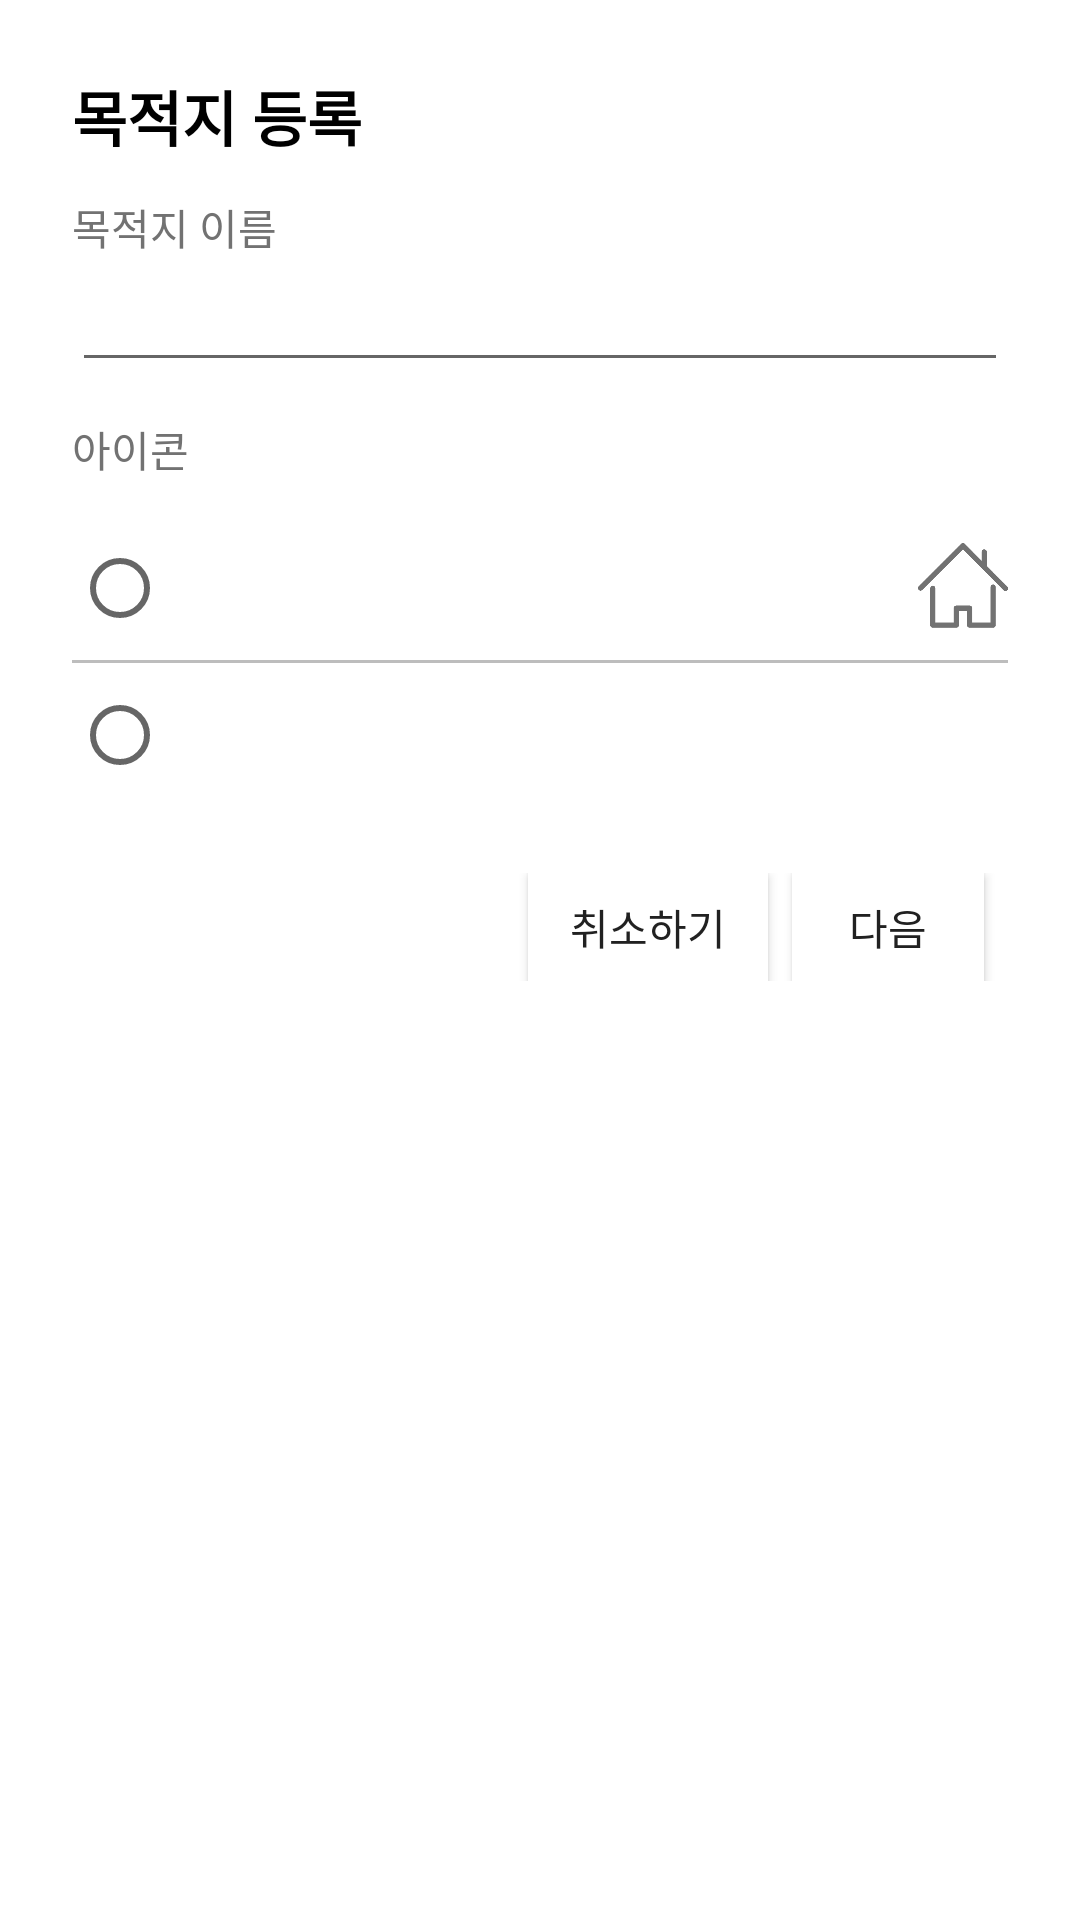

Locate icon controls on the screen. Image size 1080px x 1920px, boxes as (x1, y1, x2, y2).
home: (918, 543, 1008, 628)
